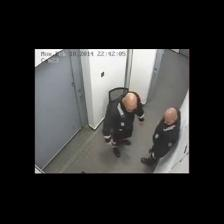person: (103, 92, 144, 157), (141, 108, 180, 165)
